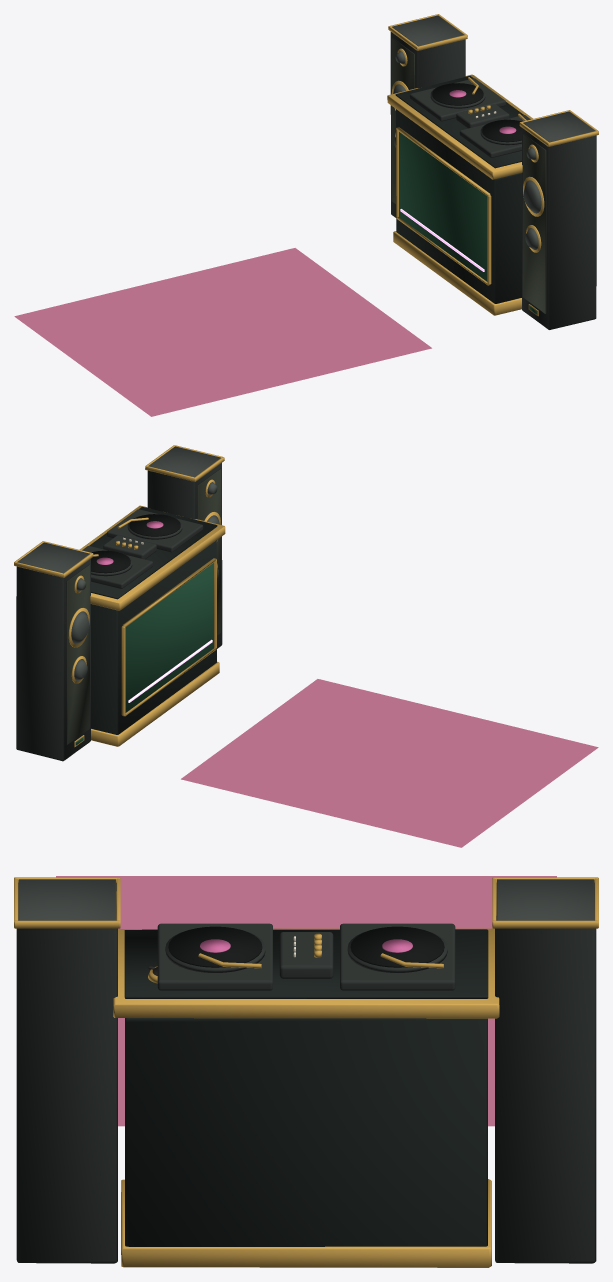
File: rooftop_dj_booth.glb
3 views of the same model, one above another, from view 1: azimuth 30°, elevation 25°; view 2: azimuth 150°, elevation 25°; view 3: azimuth 270°, elevation 25° (orthographic). The views are drawn at different scales.
Parts seen in each view (by area): view 1: DanceFloor, Speaker1, BoothFront, Booth, SpeakerGrille1, Speaker0, BoothLip, DeckTop, BoothBase, SpeakerGrille0, SpeakerTop1, SpeakerTop0 (+5 smaller); view 2: DanceFloor, Speaker0, BoothFront, Booth, SpeakerGrille0, Speaker1, BoothLip, DeckTop, BoothBase, SpeakerTop0, SpeakerTop1, Deck1 (+5 smaller); view 3: Booth, Speaker0, Speaker1, DanceFloor, DeckTop, BoothLip, BoothBase, Deck1, Deck0, SpeakerTop0, SpeakerTop1, Record1 (+6 smaller).
Part boxes in pixels (x1,y1,x2,y2): DanceFloor: (14, 248, 431, 416); Speaker1: (522, 128, 596, 329); BoothFront: (399, 132, 487, 281); Booth: (396, 109, 521, 303); SpeakerGrille1: (523, 133, 546, 313); Speaker0: (390, 32, 465, 217); BoothLip: (387, 74, 533, 179); DeckTop: (395, 76, 523, 168); BoothBase: (393, 231, 521, 315); SpeakerGrille0: (391, 37, 414, 203); SpeakerTop1: (523, 111, 595, 142); SpeakerTop0: (392, 15, 463, 46); DanceFloor: (181, 679, 598, 847); Speaker0: (16, 559, 90, 761); BoothFront: (125, 563, 213, 712); Booth: (91, 540, 216, 734); SpeakerGrille0: (66, 565, 89, 744); Speaker1: (147, 463, 222, 648); BoothLip: (79, 505, 225, 610); DeckTop: (89, 507, 217, 599); BoothBase: (91, 661, 219, 746); SpeakerTop0: (17, 542, 89, 573); SpeakerTop1: (149, 446, 220, 477); Deck1: (107, 509, 203, 552); Booth: (125, 1018, 487, 1246); Speaker0: (495, 883, 596, 1263); Speaker1: (16, 883, 117, 1263); DanceFloor: (56, 876, 556, 1126); DeckTop: (124, 929, 488, 998); BoothLip: (113, 928, 499, 1018); BoothBase: (121, 1179, 491, 1267); Deck1: (157, 923, 272, 990); Deck0: (340, 923, 455, 990); SpeakerTop0: (497, 879, 594, 920); SpeakerTop1: (18, 879, 115, 920); Record1: (168, 926, 262, 967).
Bounding box in the file's own units: 2.42 × 0.9846 × 1.52.
